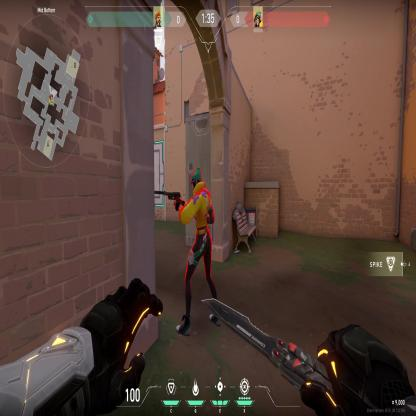enemy: (173, 159, 223, 338)
